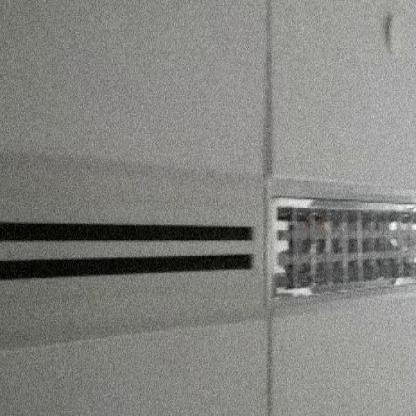light_off: (258, 154, 416, 319)
